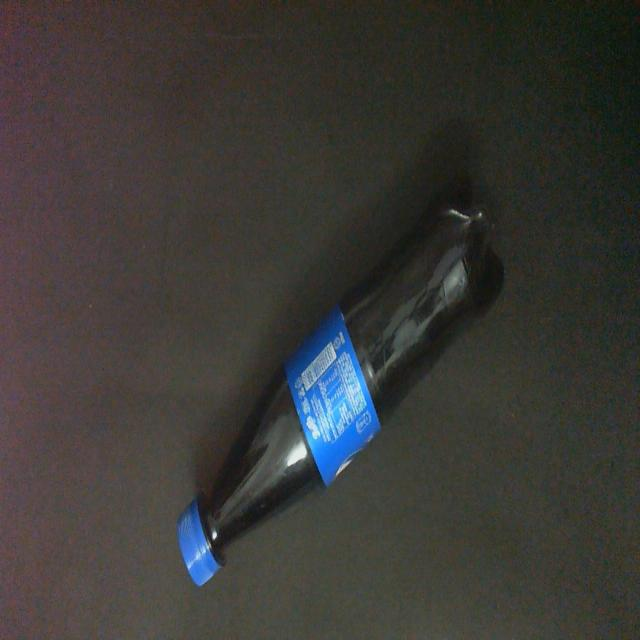non-defect: (176, 179, 506, 588)
